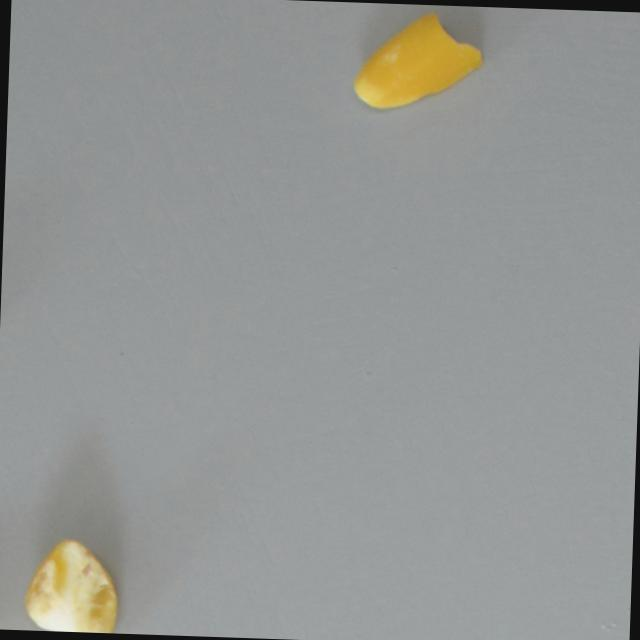dañado: (346, 5, 490, 113), (18, 530, 123, 633)
